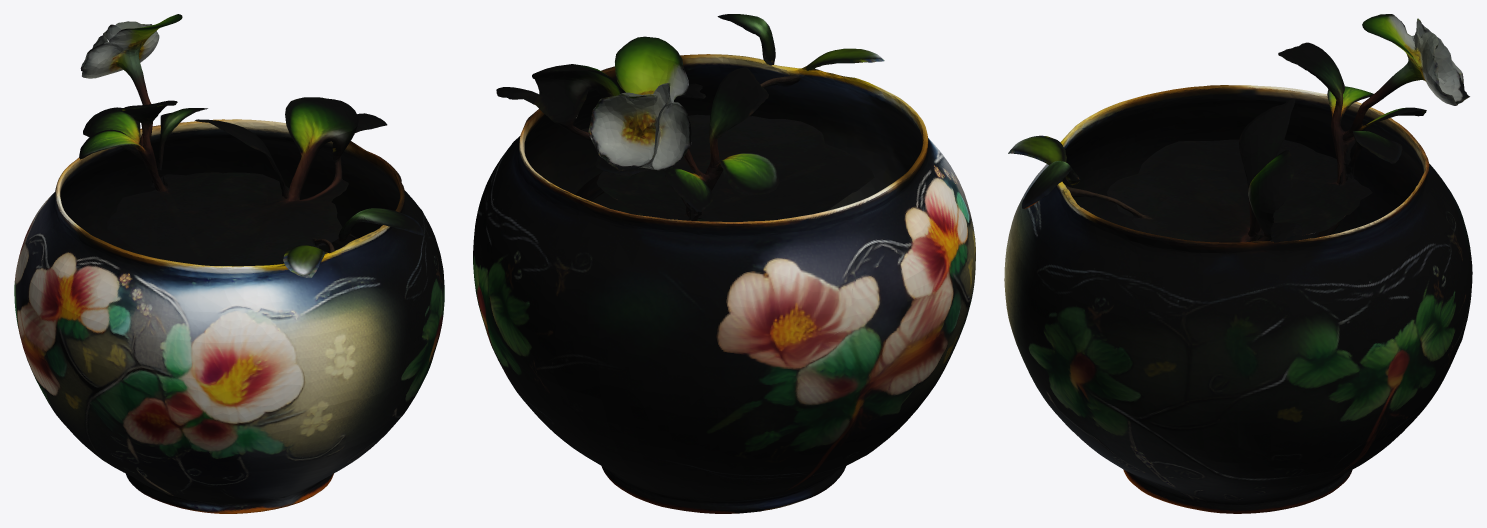
Rendered from ceramic-planter-japanese.jpeg.glb.
3 views of the same model, side by side, from view 1: azimuth 30°, elevation 25°; view 2: azimuth 150°, elevation 25°; view 3: azimuth 270°, elevation 25° (orthographic). The views are drawn at different scales.
Parts seen in each view (by area): view 1: world; view 2: world; view 3: world.
Part boxes in pixels (x1=…): world: x1=14, y1=14, x2=444, y2=513; world: x1=473, y1=14, x2=975, y2=513; world: x1=1004, y1=14, x2=1472, y2=513.
Size of the model in its own units: 0.9625 by 1 by 0.9597.
Materials: 1 (1 with a texture image).
